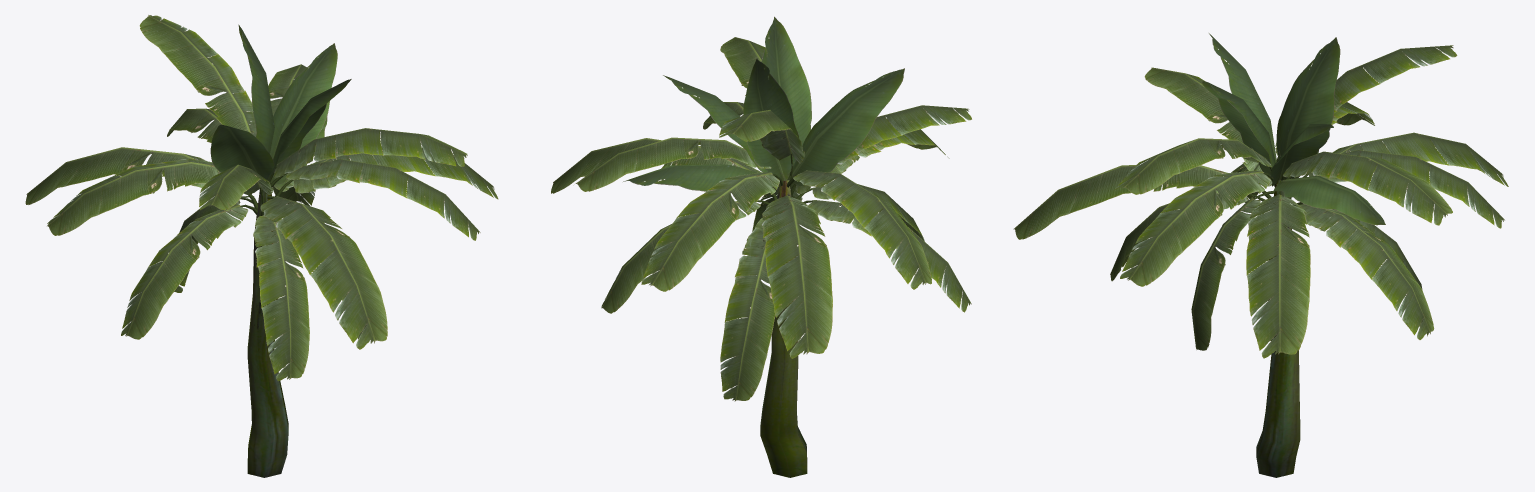
File: banana plant.FBX
3 views of the same model, side by side, from view 1: azimuth 30°, elevation 25°; view 2: azimuth 150°, elevation 25°; view 3: azimuth 270°, elevation 25° (orthographic). The views are drawn at different scales.
Parts seen in each view (by area): view 1: banana plant; view 2: banana plant; view 3: banana plant.
Boxes of the visible parts, box(x1,y1,x2,y2) form: banana plant: box(25, 15, 498, 477); banana plant: box(551, 16, 971, 477); banana plant: box(1013, 33, 1508, 477).
Bounding box in the file's own units: 45.51 × 45.19 × 47.36.
